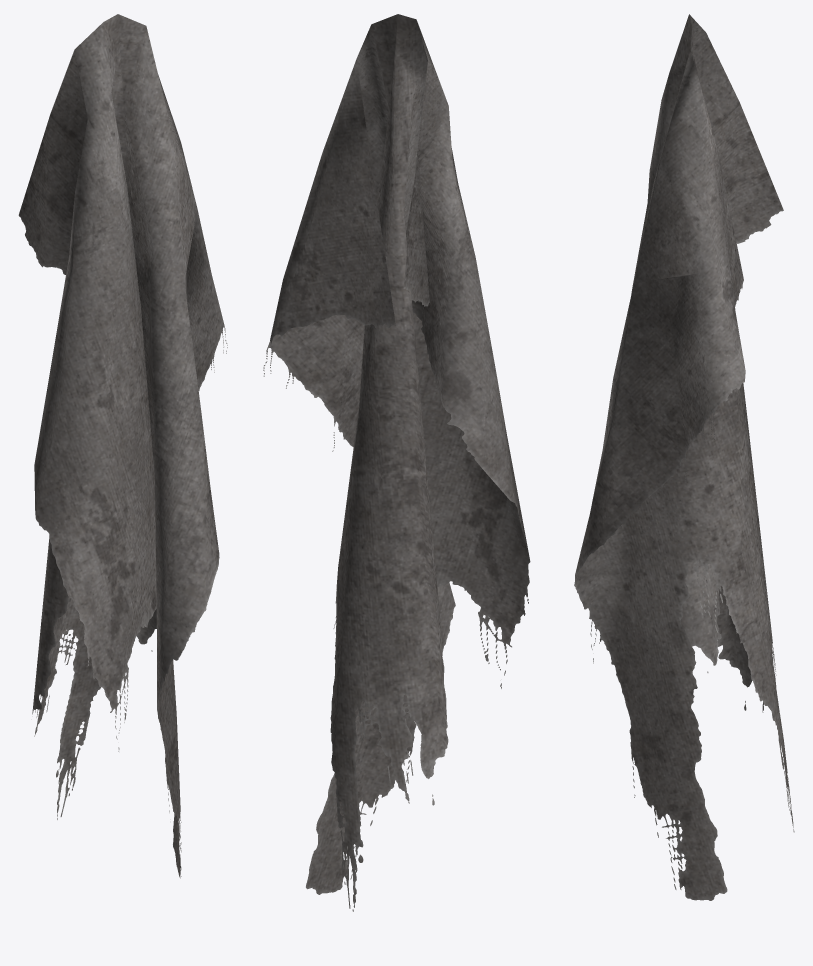
File: SM_Rags_2.fbx
3 views of the same model, side by side, from view 1: azimuth 30°, elevation 25°; view 2: azimuth 150°, elevation 25°; view 3: azimuth 270°, elevation 25° (orthographic). The views are drawn at different scales.
Parts seen in each view (by area): view 1: SM_Rags_2_LOD0; view 2: SM_Rags_2_LOD0; view 3: SM_Rags_2_LOD0.
Part boxes in pixels (left/top/right/bottom): SM_Rags_2_LOD0: left=18, top=14, right=227, bottom=878; SM_Rags_2_LOD0: left=263, top=14, right=530, bottom=911; SM_Rags_2_LOD0: left=574, top=14, right=794, bottom=900.
Size of the model in its own units: 17.33 by 16.26 by 69.31.
